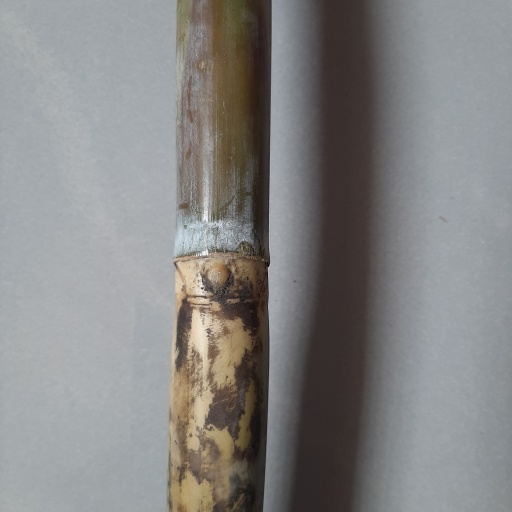Bud: (203, 262, 234, 297)
